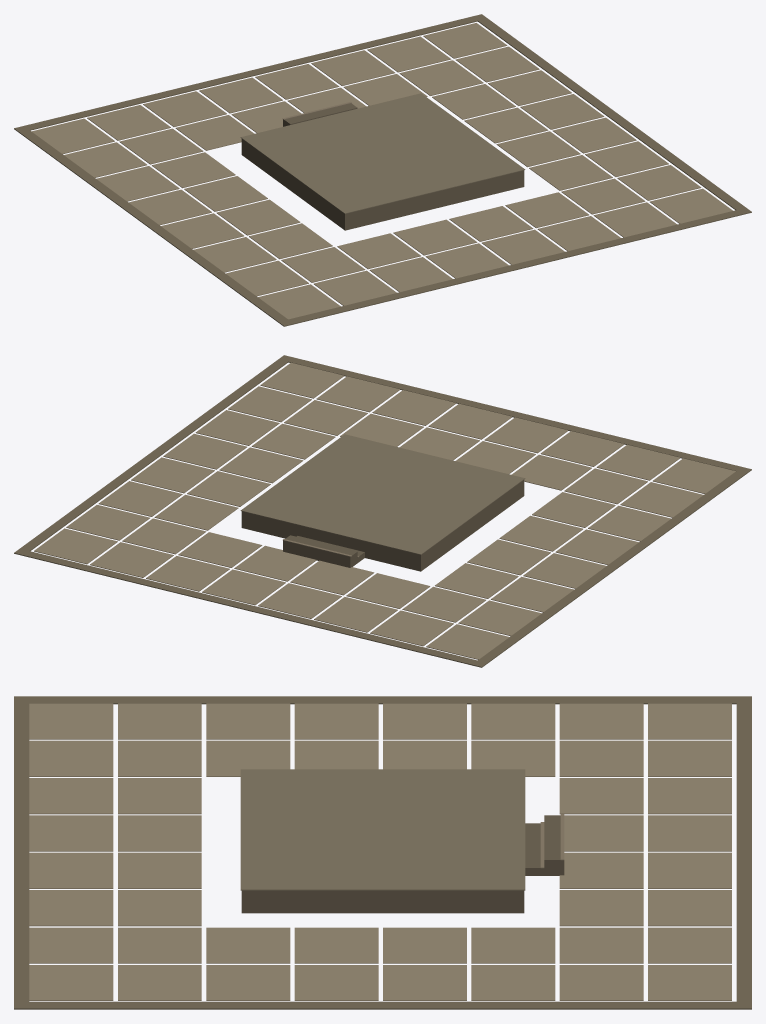
The model's file is jade_sample_terrain.glb.
The picture shows the model from 3 angles, top to bottom: view 1: azimuth 30°, elevation 25°; view 2: azimuth 150°, elevation 25°; view 3: azimuth 270°, elevation 25°; orthographic projection. The views are drawn at different scales.
Parts seen in each view (by area): view 1: Paving, Platform_Cap, Platform_Body, Edge_South, Edge_North, Edge_West, Edge_East, Step_2; view 2: Paving, Platform_Cap, Platform_Body, Edge_North, Edge_South, Edge_West, Edge_East, Step_2; view 3: Paving, Platform_Cap, Platform_Body, Edge_East, Edge_West, Edge_North, Edge_South, Step_2, Step_1.
Part boxes in pixels (x1,y1,x2,y2): Paving: (31,23,732,319); Platform_Cap: (240,93,525,213); Platform_Body: (241,139,524,230); Edge_South: (278,207,751,326); Edge_North: (14,14,486,132); Edge_West: (19,130,287,322); Edge_East: (477,18,745,210); Step_2: (283,103,357,126); Paving: (34,362,735,659); Platform_Cap: (240,434,525,554); Platform_Body: (241,480,524,571); Edge_North: (14,548,487,667); Edge_South: (279,355,751,473); Edge_West: (478,471,746,663); Edge_East: (20,359,288,551); Step_2: (283,535,357,567); Paving: (29,703,731,1000); Platform_Cap: (240,769,525,890); Platform_Body: (241,890,524,913); Edge_East: (29,1001,736,1009); Edge_West: (29,696,736,704); Edge_North: (736,696,751,1009); Edge_South: (14,696,29,1009); Step_2: (544,815,564,875); Step_1: (525,823,544,875).
Bounding box in the file's own units: 16.7 × 0.6 × 16.7.
